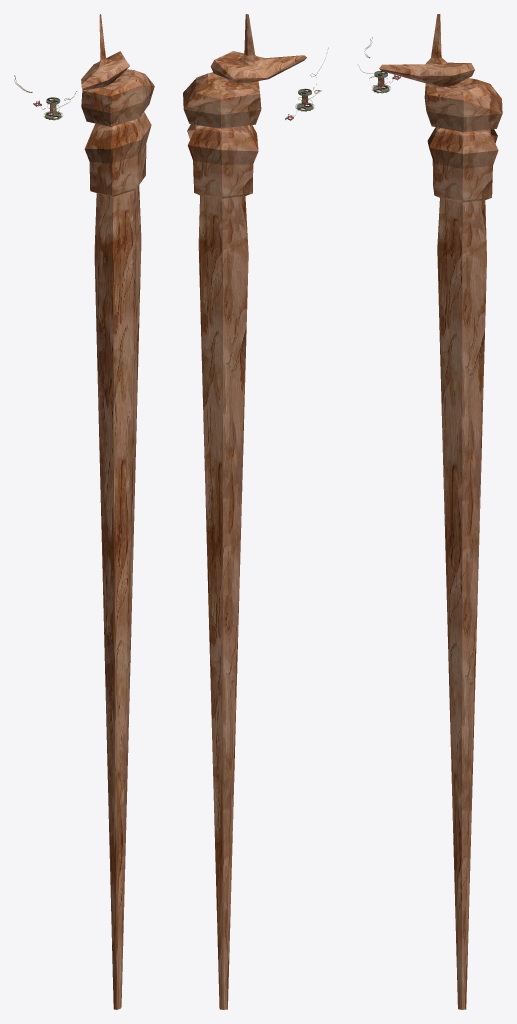
File: STG08_ON_17.obj
3 views of the same model, side by side, from view 1: azimuth 30°, elevation 25°; view 2: azimuth 150°, elevation 25°; view 3: azimuth 330°, elevation 25° (orthographic).
Parts seen in each view (by area): view 1: Object_2; view 2: Object_2; view 3: Object_2.
Part boxes in pixels (<box>): Object_2: <box>14,14,154,1009</box>; Object_2: <box>183,14,328,1009</box>; Object_2: <box>357,14,502,1009</box>.
Size of the model in its own units: 5261 by 36791 by 3376.
